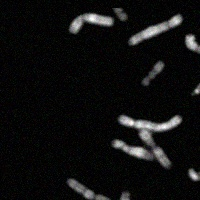chromosome: (129, 14, 182, 45), (139, 129, 171, 166), (119, 113, 181, 131), (70, 13, 114, 36), (112, 140, 154, 164), (67, 178, 110, 200), (142, 60, 163, 85), (184, 34, 200, 59), (188, 167, 200, 182), (194, 70, 200, 94), (118, 191, 131, 200)
